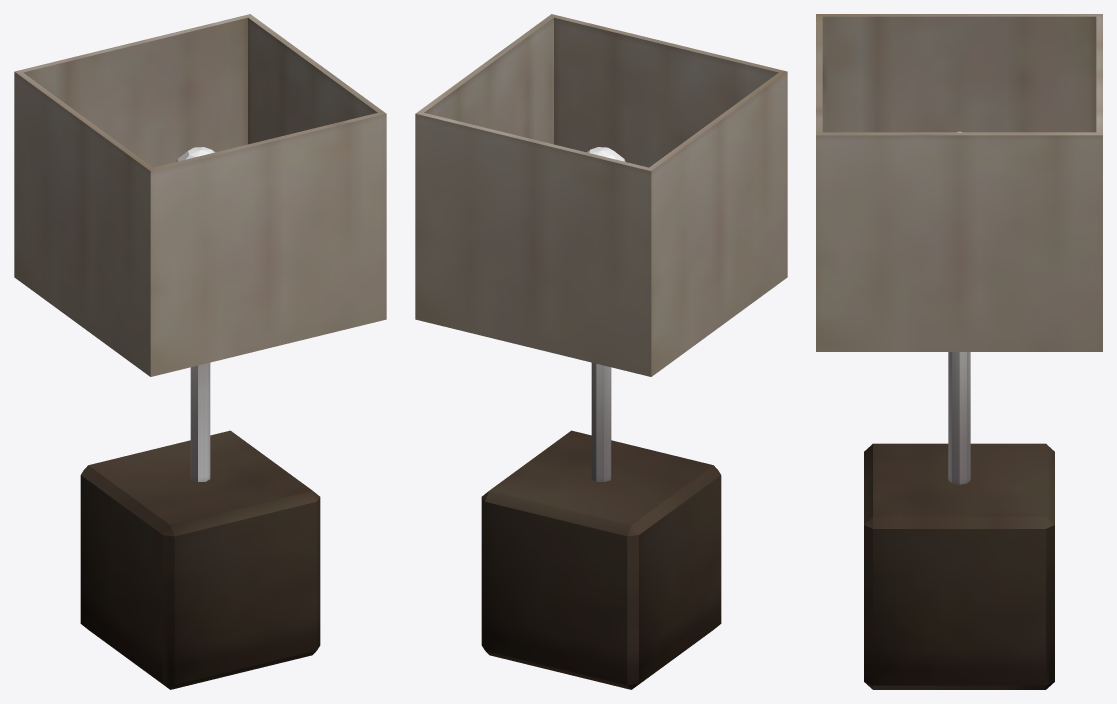
File: SM_Chandelier_01.fbx
3 renders of one model, left to right at view 1: azimuth 30°, elevation 25°; view 2: azimuth 150°, elevation 25°; view 3: azimuth 270°, elevation 25°, orthographic. The views are drawn at different scales.
Visible parts, largest first — view 1: SM_Chandelier_01; view 2: SM_Chandelier_01; view 3: SM_Chandelier_01.
Part boxes in pixels (<box>): SM_Chandelier_01: <box>14,14,386,689</box>; SM_Chandelier_01: <box>415,14,787,689</box>; SM_Chandelier_01: <box>816,14,1102,689</box>.
Bounding box in the file's own units: 24.9 × 55.45 × 24.9.
